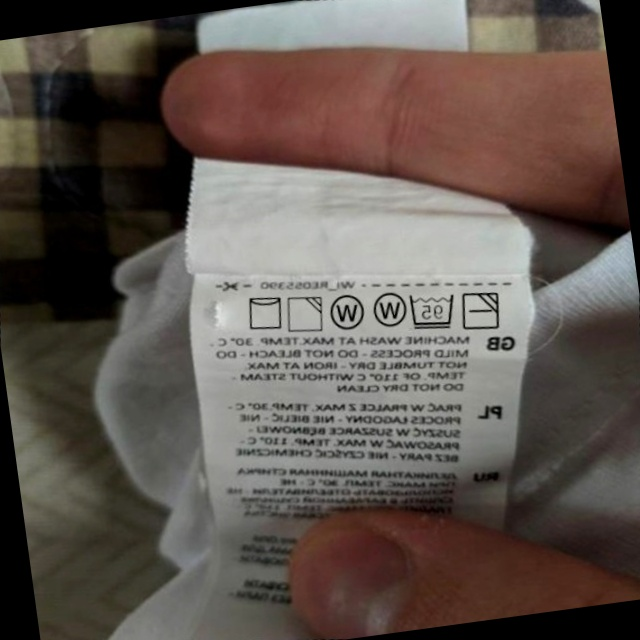95C: (403, 286, 460, 335)
dry_flat_in_shade: (457, 285, 506, 336)
line_dry: (240, 289, 288, 336)
shade_dry: (281, 290, 329, 338)
wet_clean: (324, 289, 370, 337), (366, 284, 411, 333)
